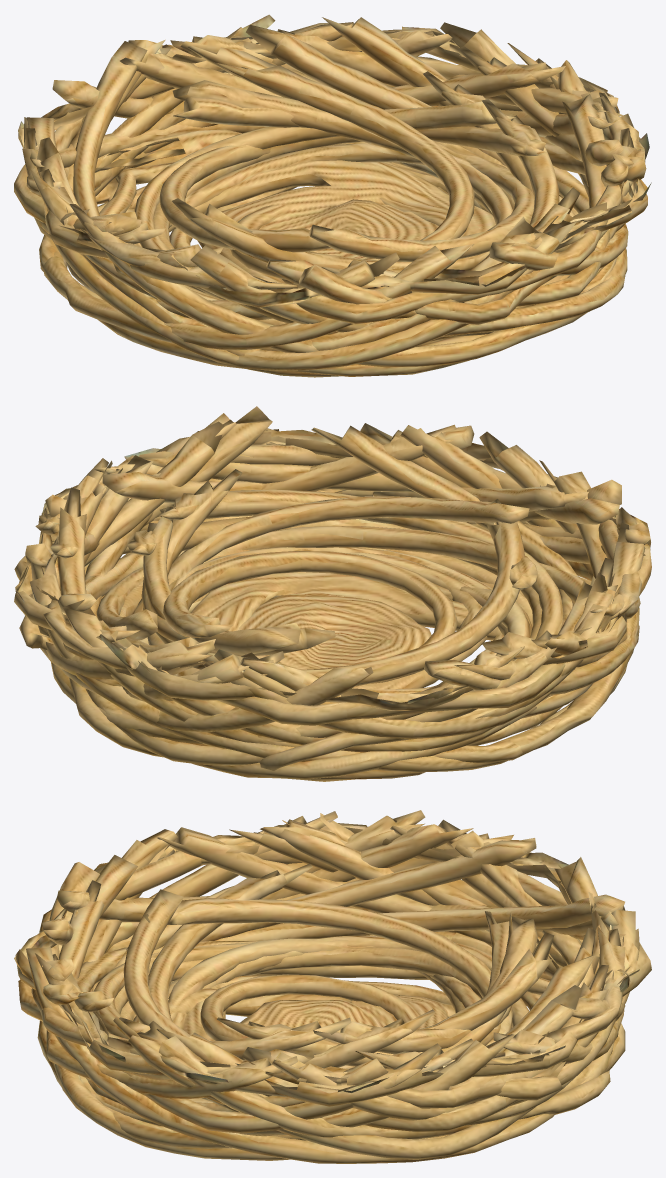
The model's file is s1_gen_basket_green.glb.
The picture shows the model from 3 angles, top to bottom: view 1: azimuth 30°, elevation 25°; view 2: azimuth 150°, elevation 25°; view 3: azimuth 270°, elevation 25°; orthographic projection. The views are drawn at different scales.
Bounding box in the file's own units: 1.69 × 0.3796 × 1.69.
1 material, 1 textured.
